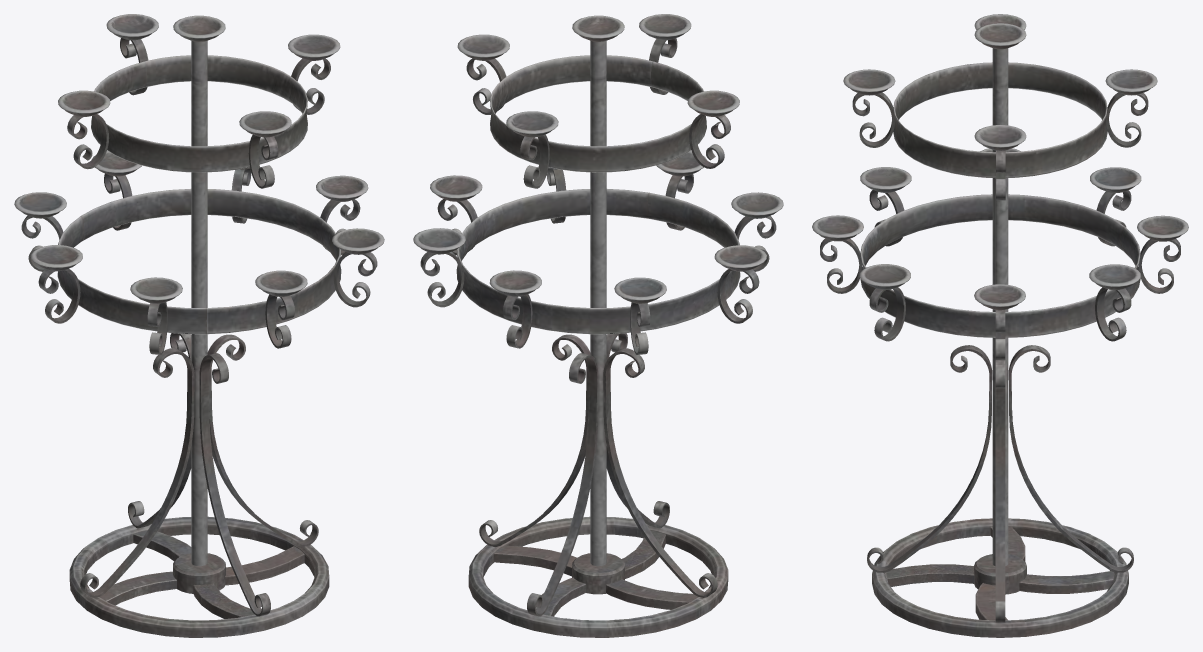
The model's file is SM_Candle_Holder.glb.
3 views of the same model, side by side, from view 1: azimuth 30°, elevation 25°; view 2: azimuth 150°, elevation 25°; view 3: azimuth 270°, elevation 25° (orthographic).
Visible parts, largest first — view 1: SM_Candle_Holder; view 2: SM_Candle_Holder; view 3: SM_Candle_Holder.
Boxes of the visible parts, left/top/right/bottom form: SM_Candle_Holder: left=14, top=14, right=384, bottom=637; SM_Candle_Holder: left=413, top=14, right=783, bottom=637; SM_Candle_Holder: left=812, top=14, right=1188, bottom=637.
Size of the model in its own units: 1.32 by 2.13 by 1.32.
1 material, 1 textured.
